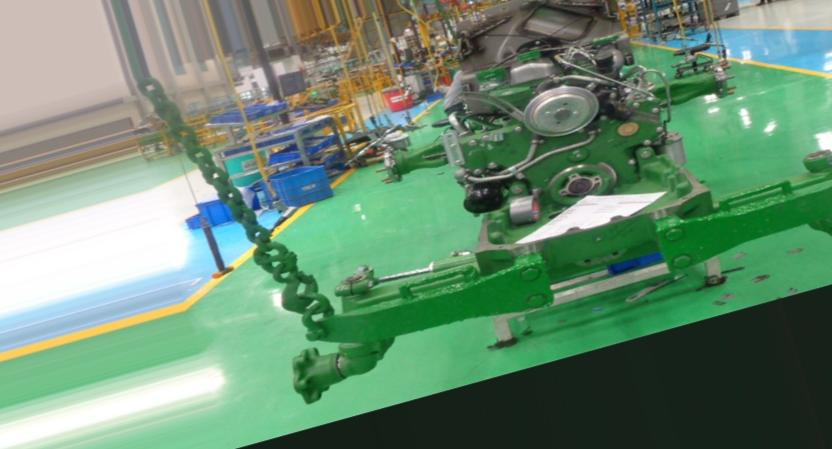engine: (289, 0, 832, 409)
